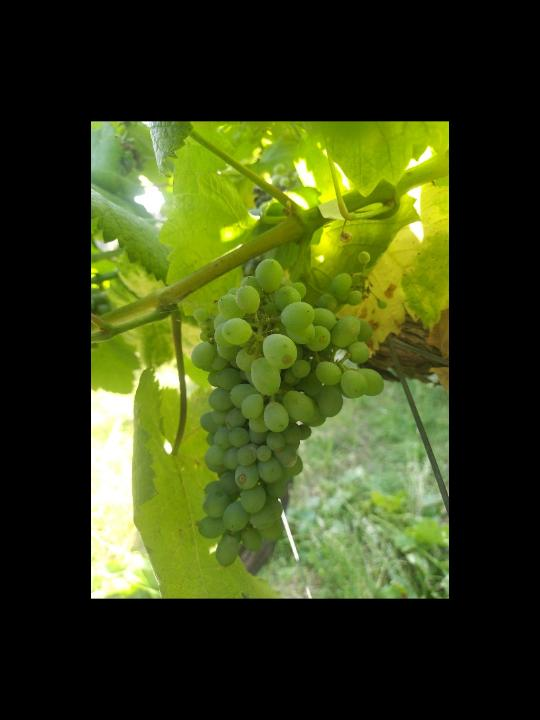grape: (188, 248, 390, 571)
